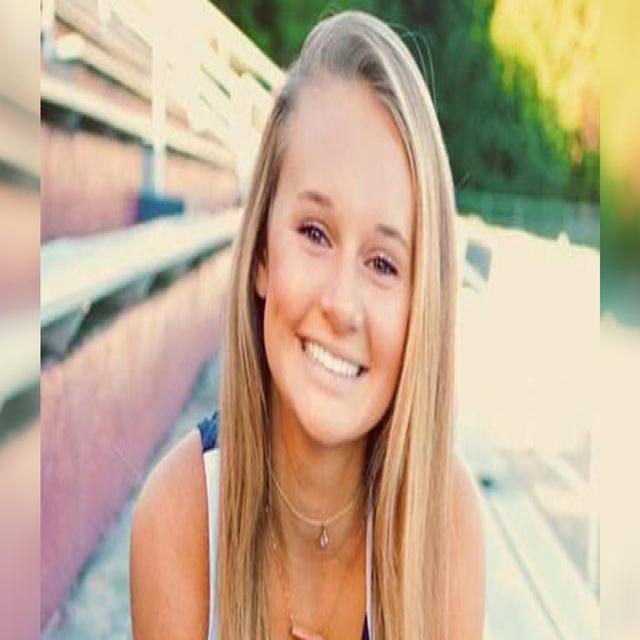human: (123, 1, 489, 640)
